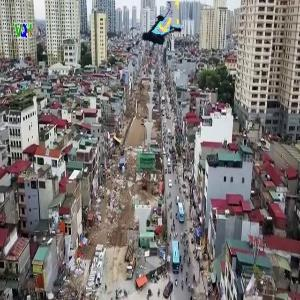drone: (116, 2, 187, 73)
